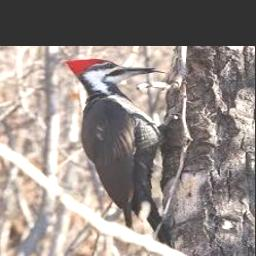Woodpecker: (66, 59, 168, 247)
